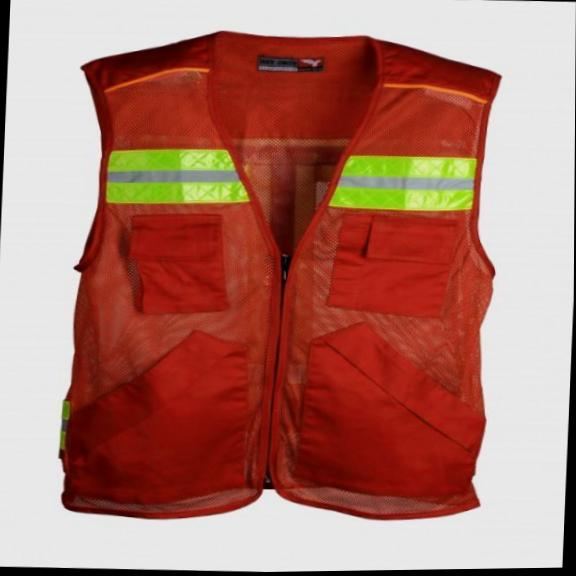safety_vest: (54, 21, 506, 532)
